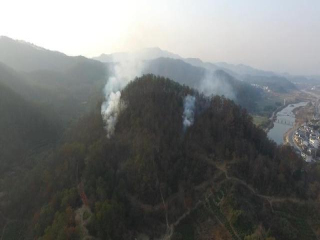smoke: (97, 52, 151, 140), (181, 66, 237, 139)
